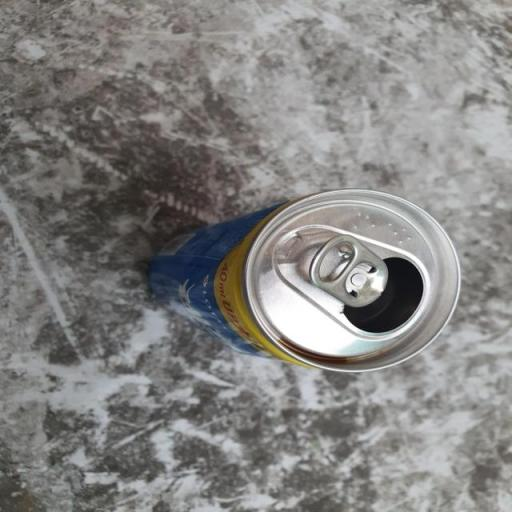metal: (111, 132, 474, 439)
